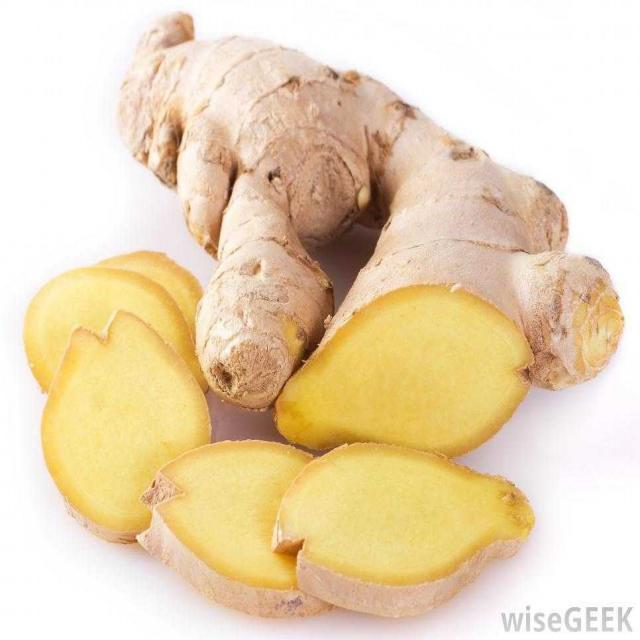ginger: (24, 9, 627, 625)
